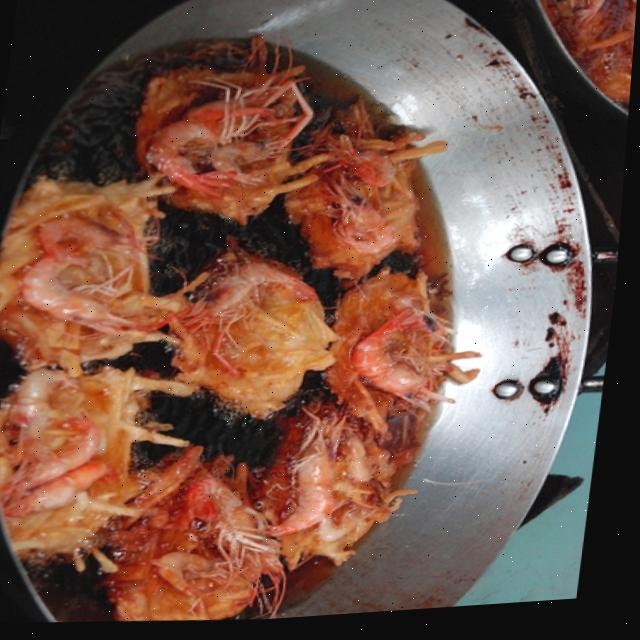炸货点心: (0, 0, 618, 640)
熟制海鲜: (0, 0, 618, 640)
